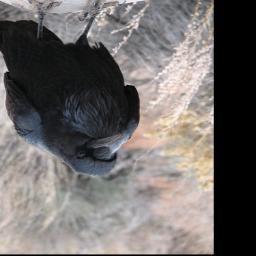Crow: (0, 0, 143, 178)
